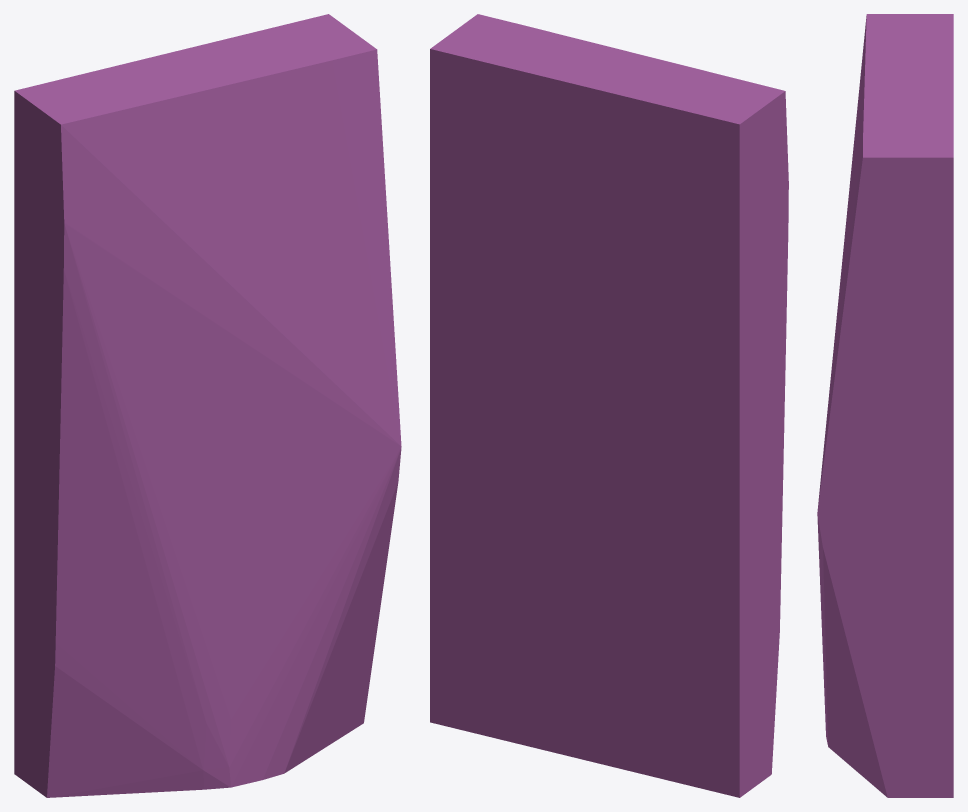
File: piece_7.obj
The picture shows the model from 3 angles, left to right: view 1: azimuth 30°, elevation 25°; view 2: azimuth 150°, elevation 25°; view 3: azimuth 270°, elevation 25°; orthographic projection. The views are drawn at different scales.
Size of the model in its own units: 0.0118 by 0.0246 by 0.00473.
